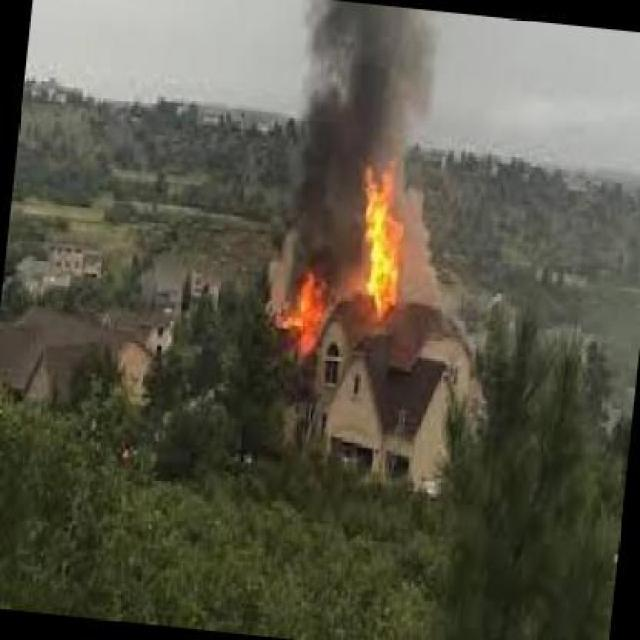Fire: (358, 166, 411, 318), (268, 276, 346, 350)
Smoke: (290, 2, 446, 165), (260, 168, 354, 265)
